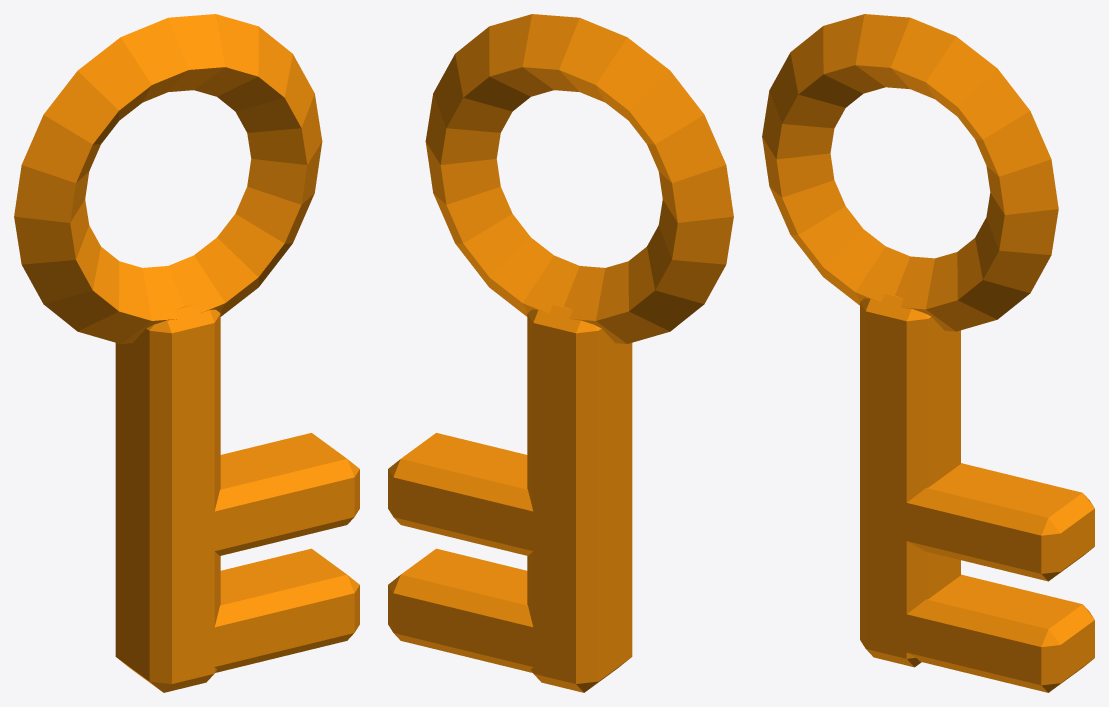
Rendered from PROP_key__v001__model.fbx.
3 views of the same model, side by side, from view 1: azimuth 30°, elevation 25°; view 2: azimuth 150°, elevation 25°; view 3: azimuth 330°, elevation 25° (orthographic). The views are drawn at different scales.
Visible parts, largest first — view 1: PROP_key_Mesh; view 2: PROP_key_Mesh; view 3: PROP_key_Mesh.
Boxes of the visible parts, x1=… form: PROP_key_Mesh: x1=14, y1=14, x2=359, y2=692; PROP_key_Mesh: x1=388, y1=14, x2=733, y2=692; PROP_key_Mesh: x1=762, y1=14, x2=1094, y2=692.
Size of the model in its own units: 0.415 by 0.795 by 0.11.
1 material, 1 textured.
